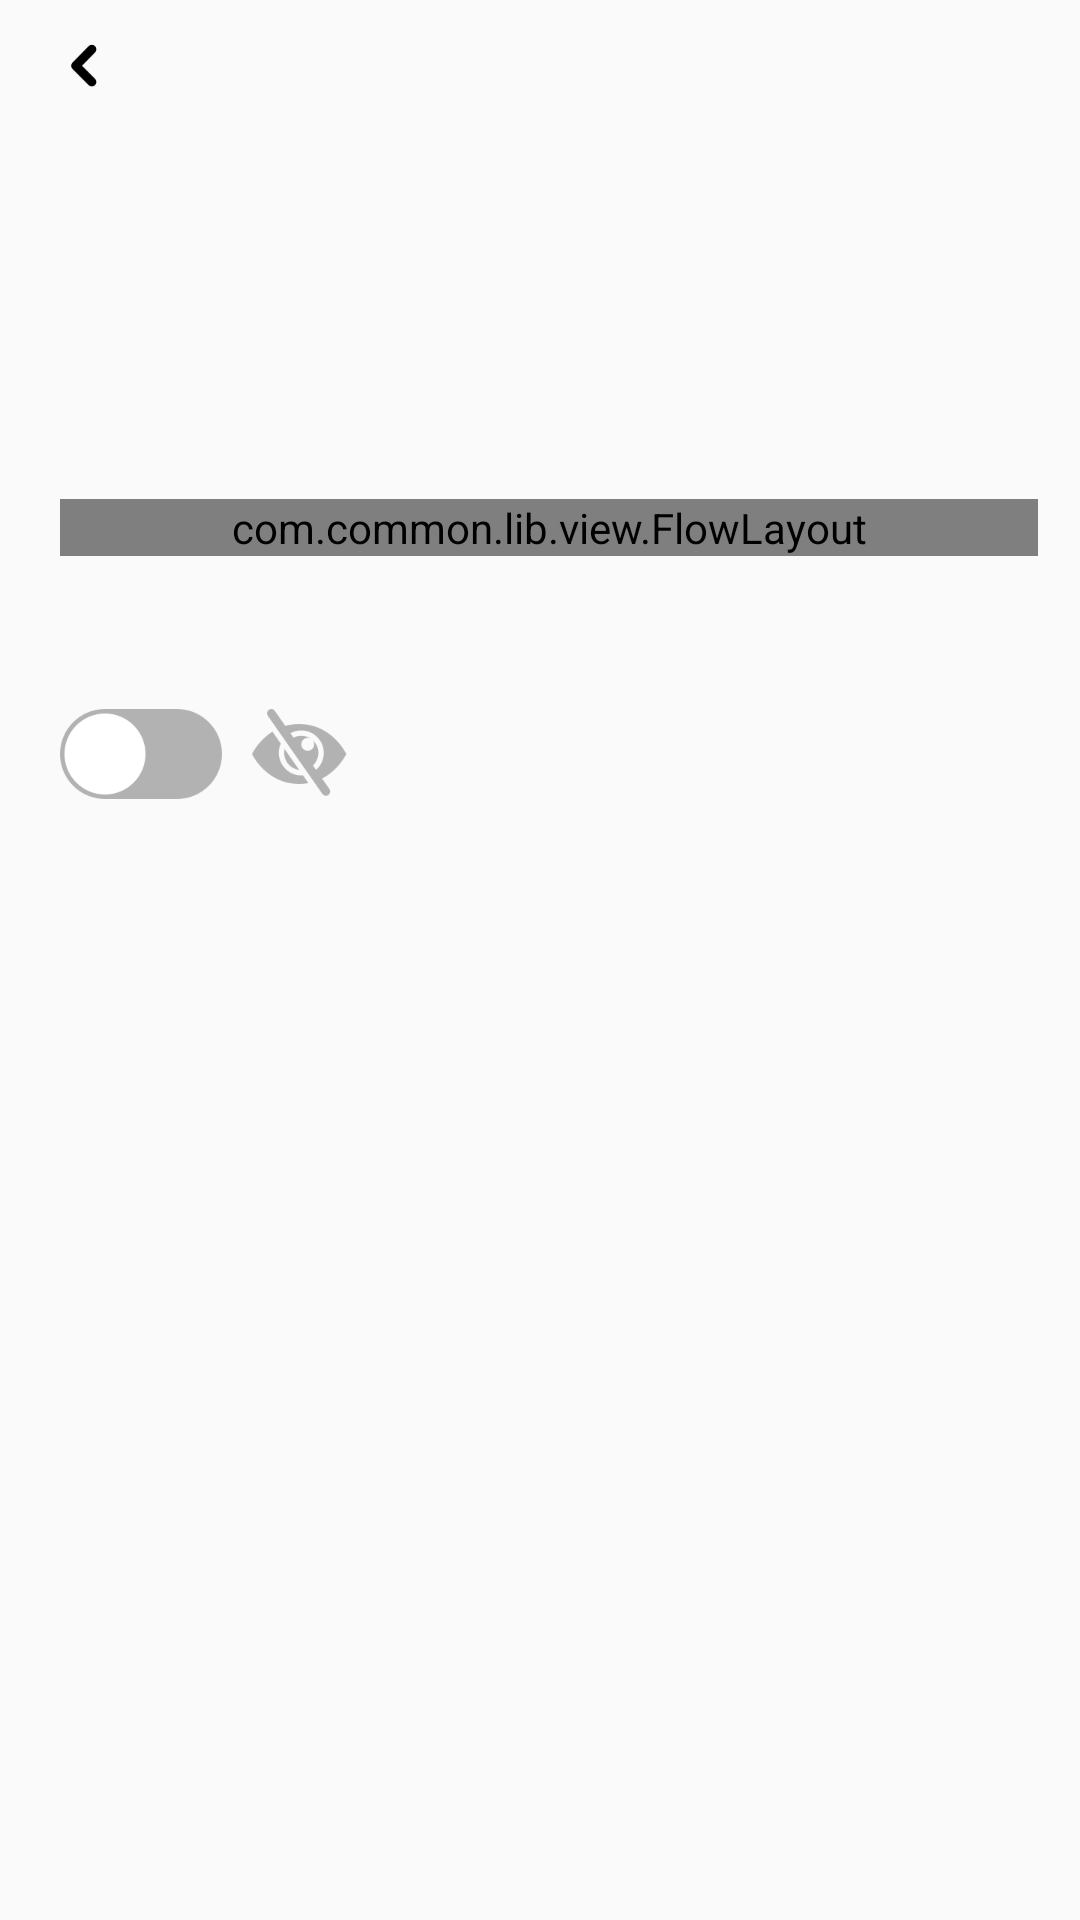

Icon bounding boxes for this 1080px×1920px phone screenshot, format box(x1, y1, x2, y2):
back: box(71, 44, 97, 87)
privacy on: box(252, 709, 346, 796)
toggle off: box(60, 709, 222, 799)
